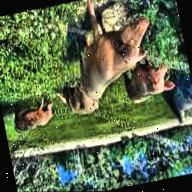boar: (53, 0, 167, 107), (113, 56, 180, 120), (0, 88, 65, 142)
